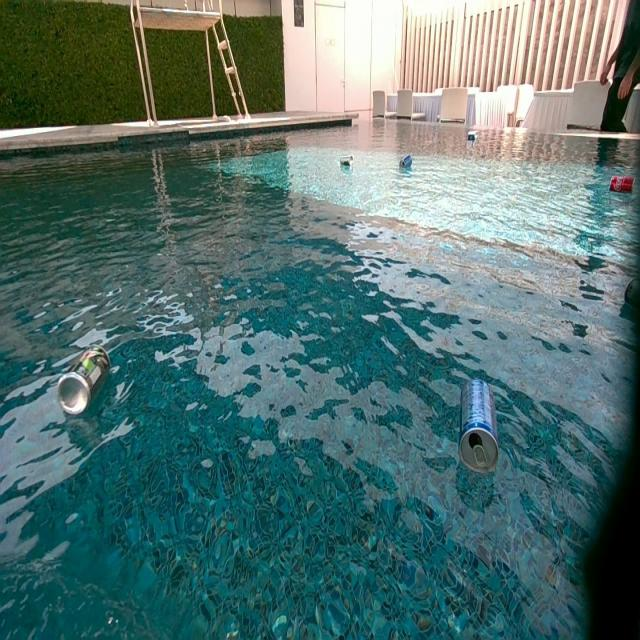Cans: (458, 380, 502, 475), (57, 349, 111, 415), (612, 176, 634, 193), (399, 153, 414, 170), (340, 156, 354, 170), (466, 131, 476, 142), (469, 132, 478, 142)
